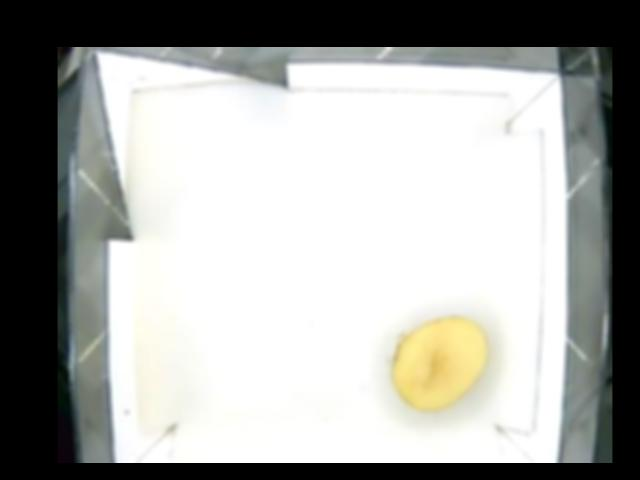Potato: (391, 314, 487, 408)
